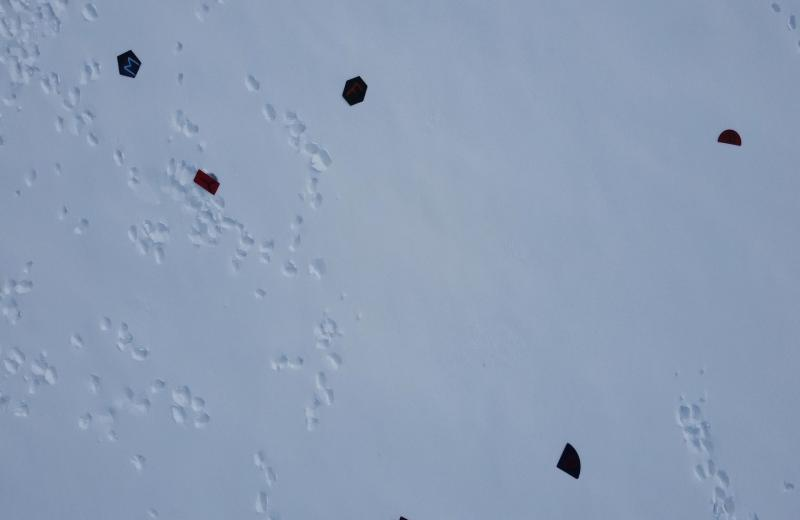Hexagon: (338, 73, 372, 112)
Pentagon: (114, 47, 145, 82)
Quarter Circle: (556, 439, 587, 481)
Rectangle: (189, 167, 223, 197)
Semi Circle: (719, 128, 744, 151)
